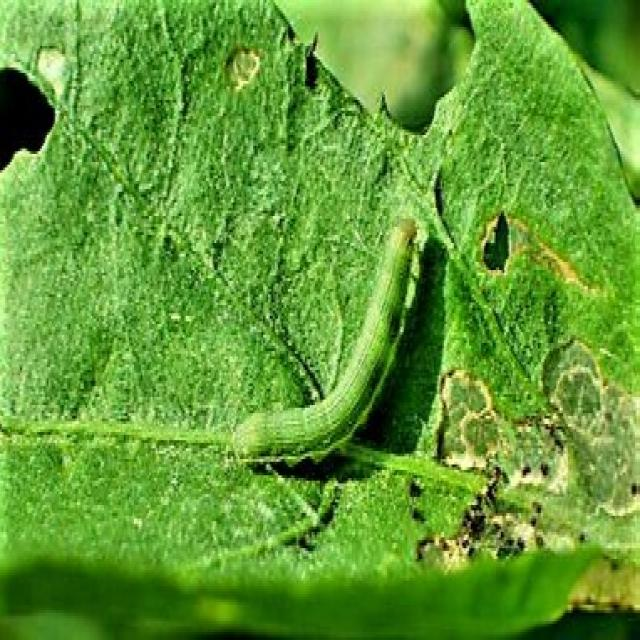Armyworm: (240, 220, 420, 490)
Armyworm_damage: (1, 50, 52, 211), (469, 202, 517, 279)
